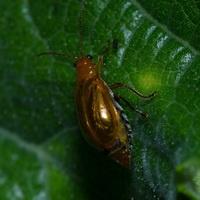insect: (38, 0, 156, 167)
